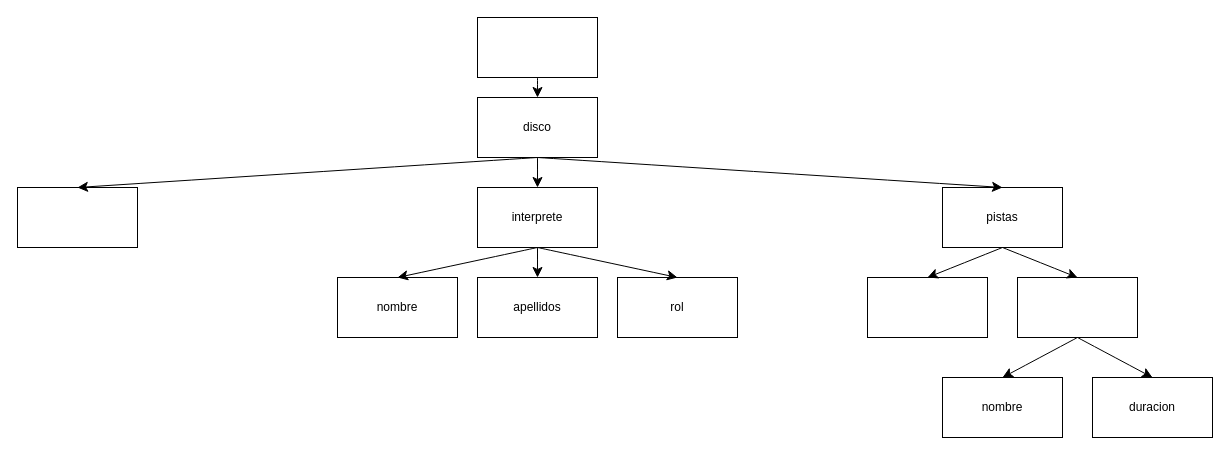
This 1230x455 diagram has some shape labels left out. Each missing label, with the centre of its shape:
"discografica" belongs at point 537,47.
"numero_de_pistas" belongs at point 927,307.
"pista" belongs at point 1077,307.
"titulo" belongs at point 77,217.
